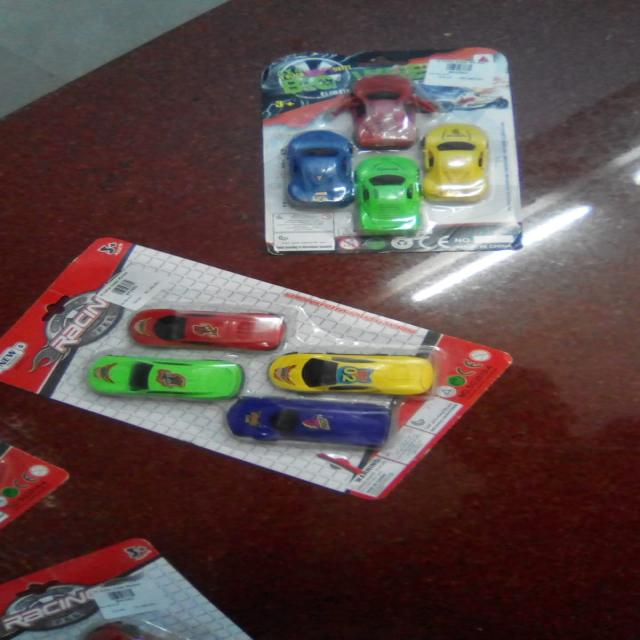Car: (268, 353, 436, 396), (88, 355, 243, 400), (130, 309, 284, 350), (286, 130, 354, 209), (348, 76, 420, 150), (422, 124, 489, 203)
